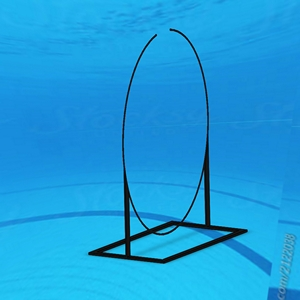circle: (86, 26, 249, 266)
